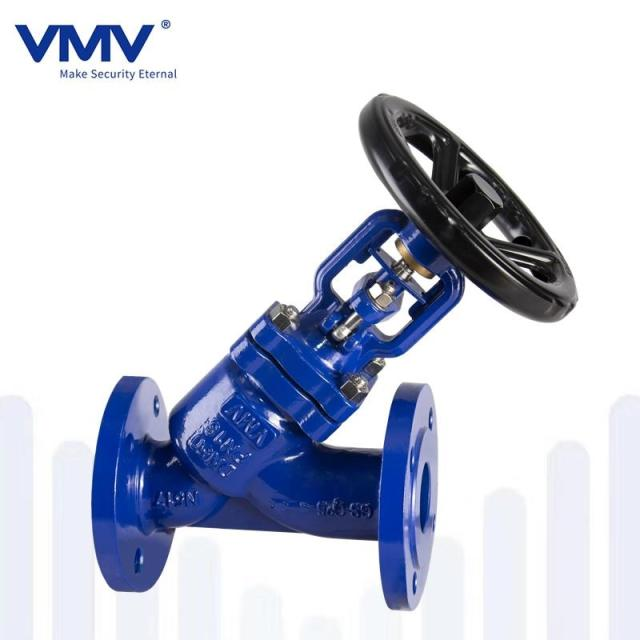Wheel Handle Valve Threaded: (342, 89, 592, 327)
